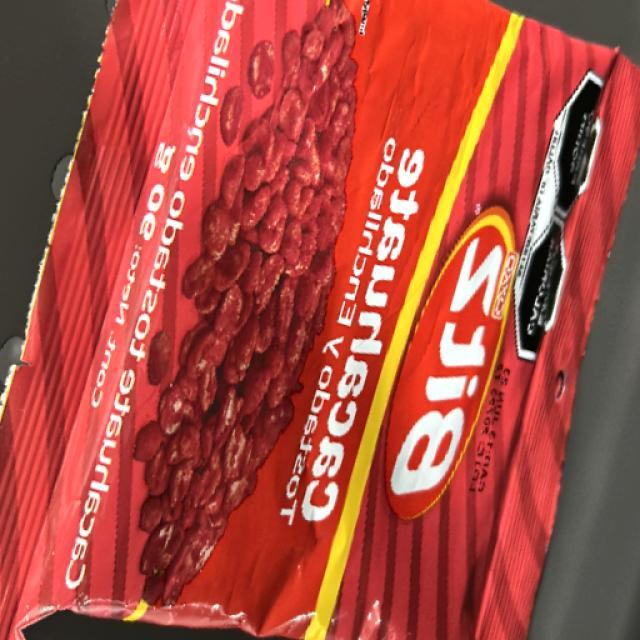bitzEnchilado90: (87, 0, 575, 640)
